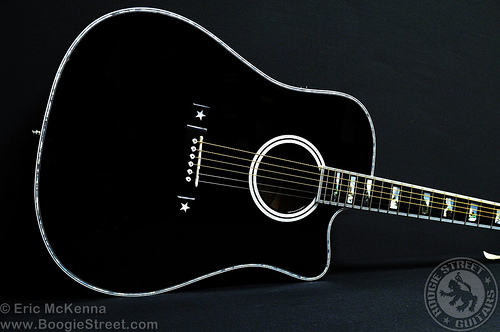guitar: (31, 7, 500, 300)
